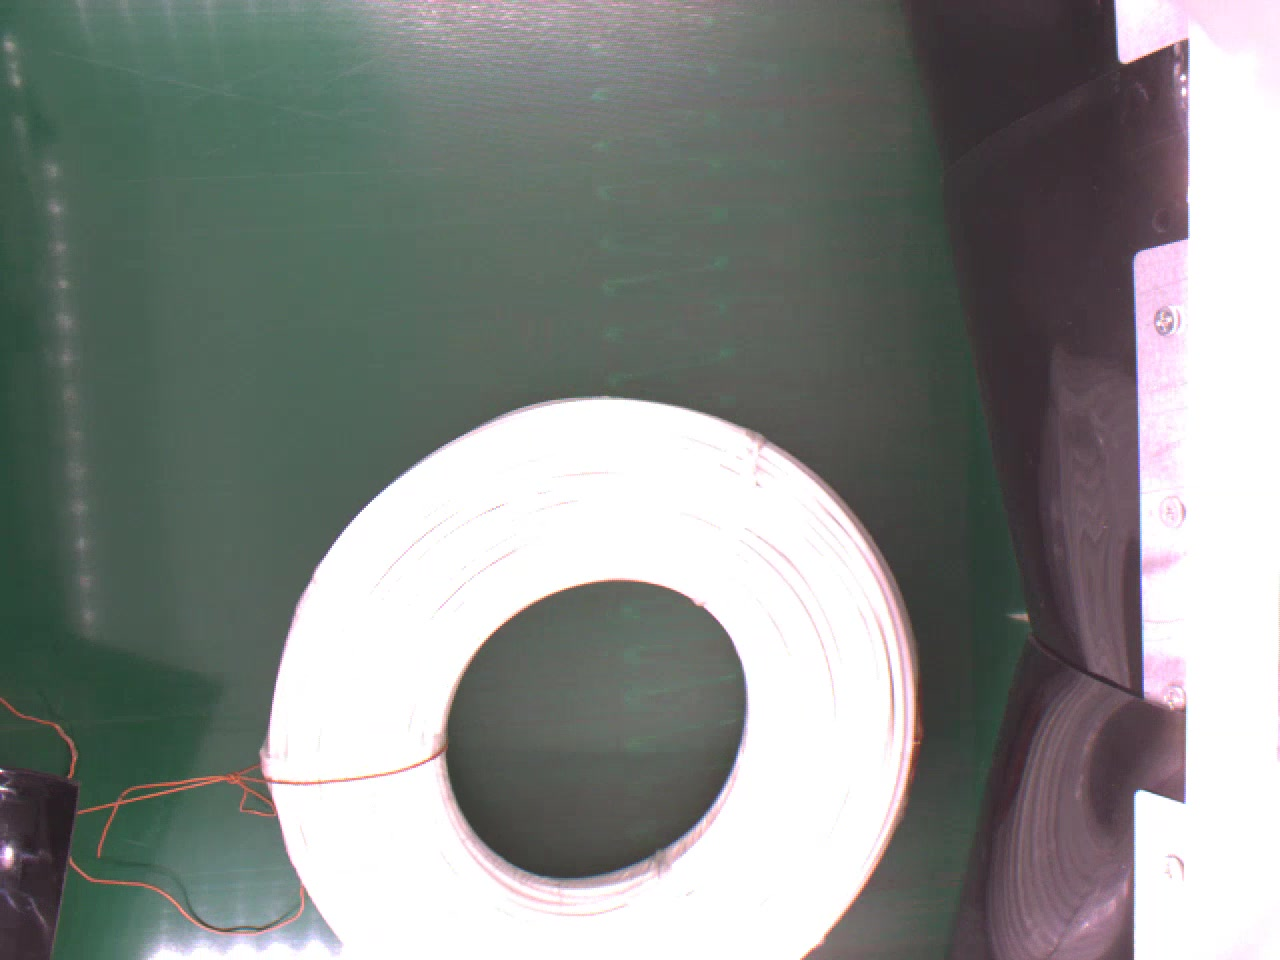white: (251, 397, 924, 960)
